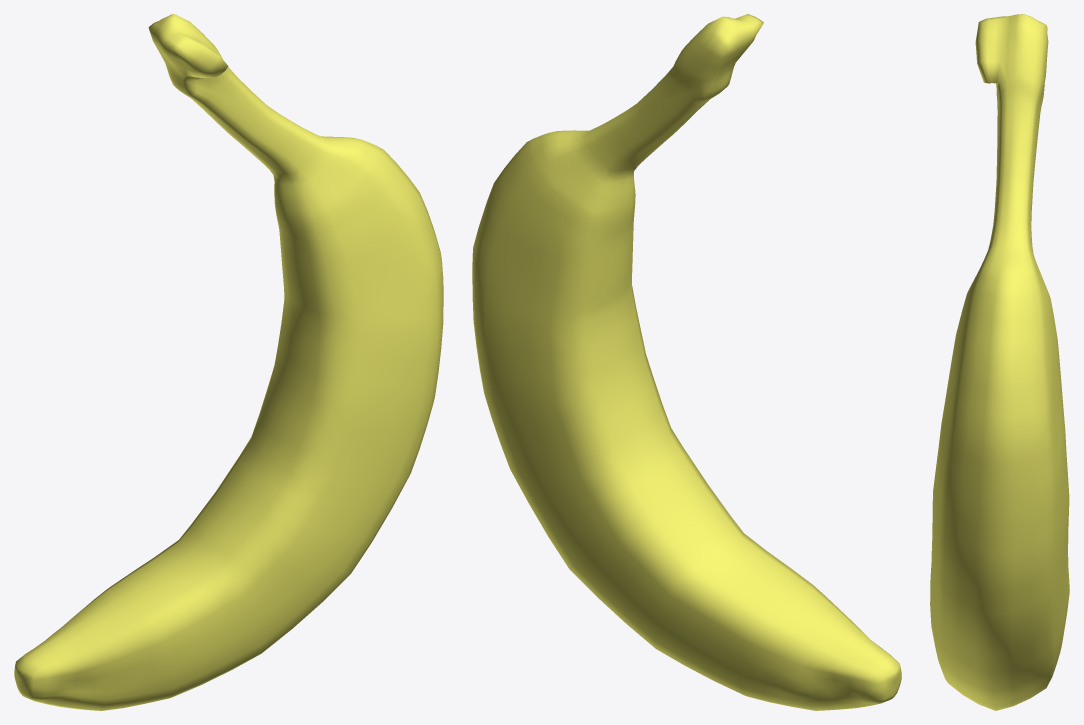
The model's file is banana.dae.
3 renders of one model, left to right at view 1: azimuth 30°, elevation 25°; view 2: azimuth 150°, elevation 25°; view 3: azimuth 270°, elevation 25°, orthographic. The views are drawn at different scales.
Parts seen in each view (by area): view 1: Cube_001; view 2: Cube_001; view 3: Cube_001.
Part boxes in pixels (box(x1,y1,x2,y2)): Cube_001: box(14, 14, 443, 710); Cube_001: box(472, 14, 901, 710); Cube_001: box(930, 14, 1069, 710).
Bounding box in the file's own units: 3.91 × 1.1 × 5.98.
